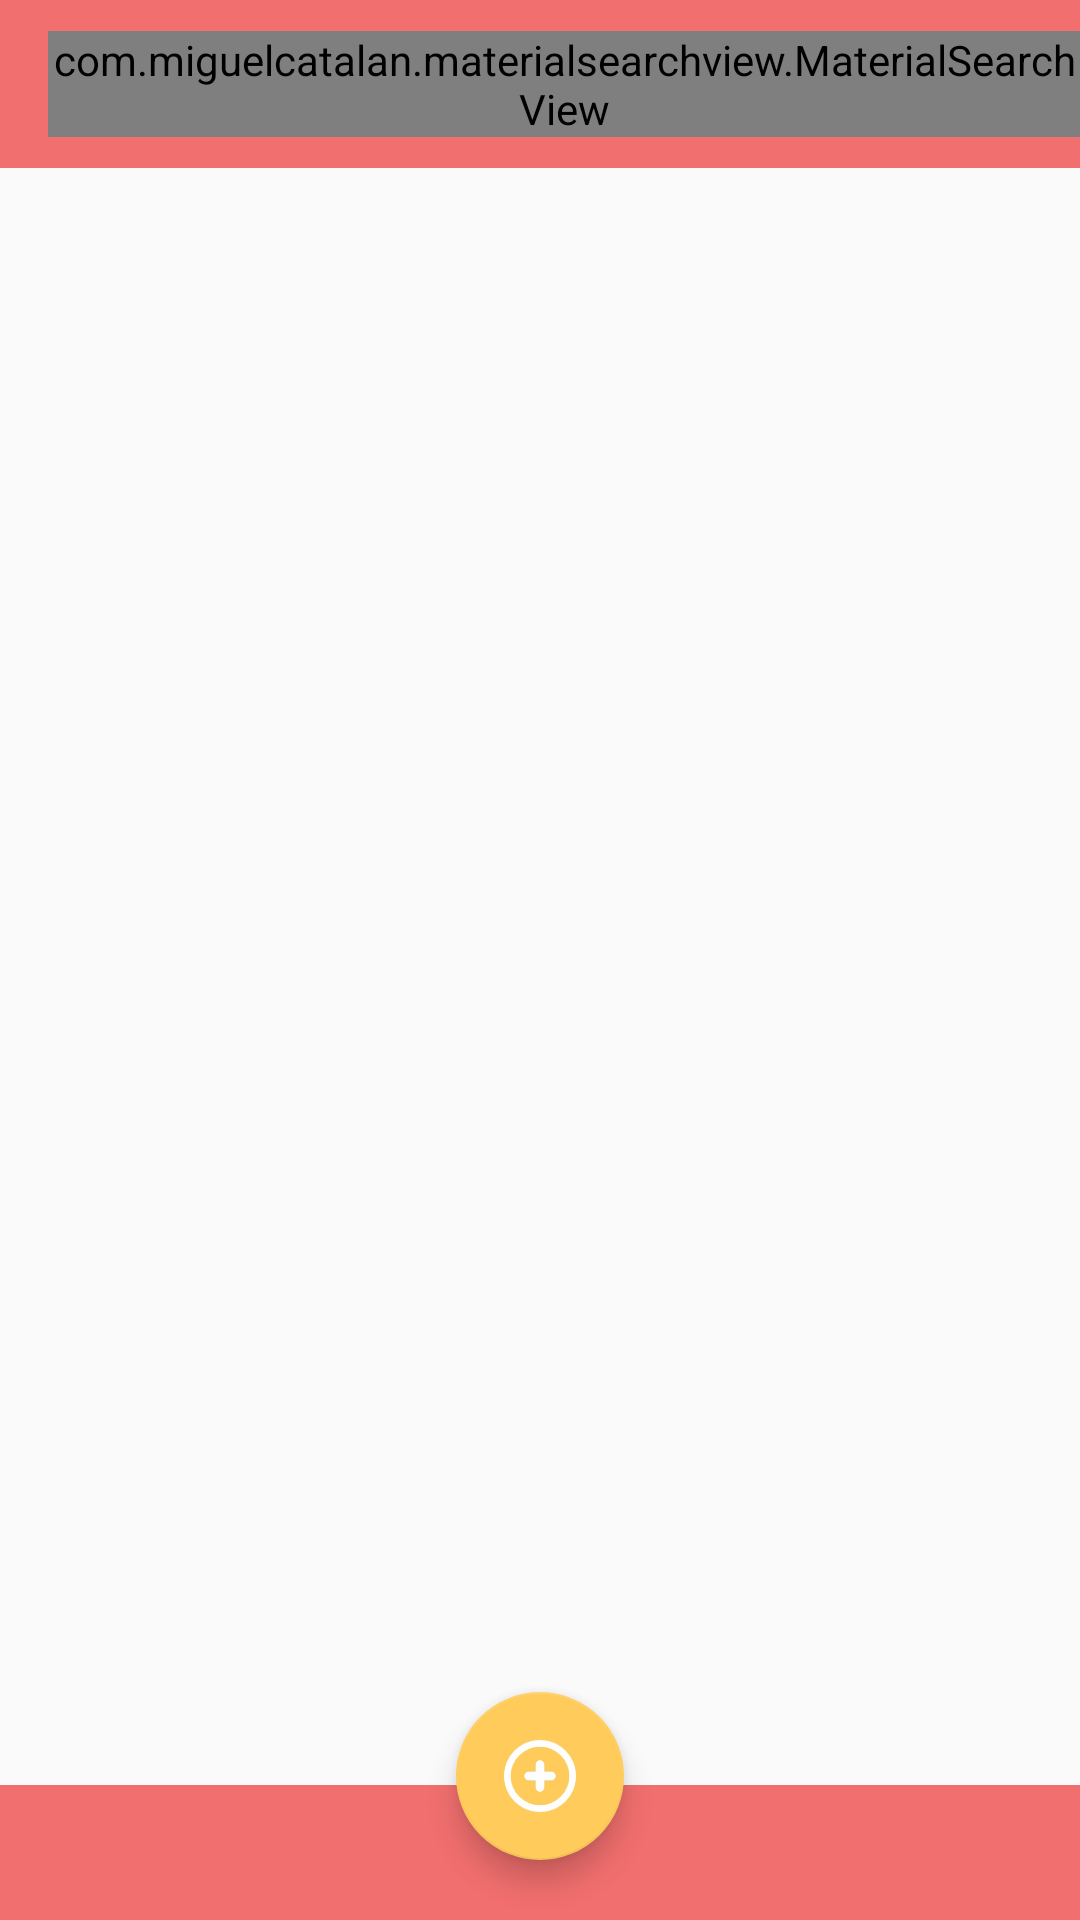

Point at icon controls on the screen. Image size 1080px×1920px, points as [x,y].
add circular: [540,1776]
